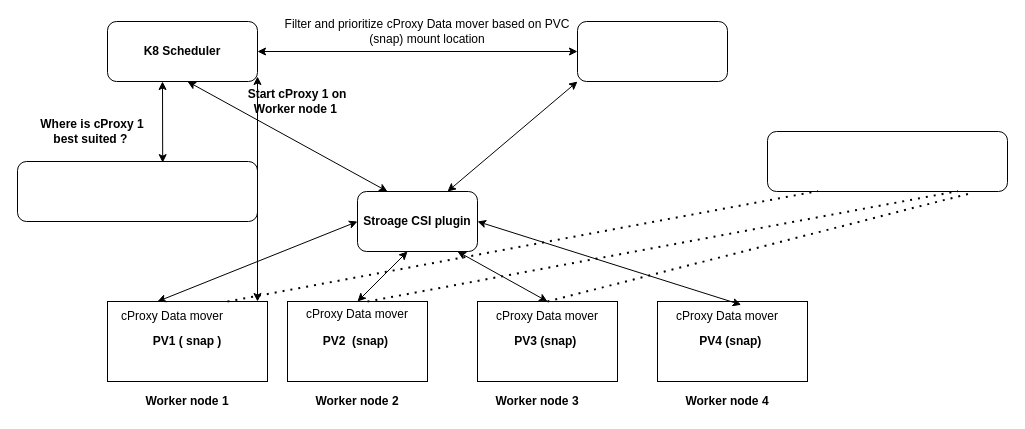
Some shapes in this 1025 by 429 pixel diagram are drawn without their labels. Each missing label, with the centre of its shape:
"Data Domain ( backup target)" goes at (x=887, y=161).
"POWERPROTECT CONTROLLER" goes at (x=137, y=191).
"STORK" goes at (x=652, y=51).
